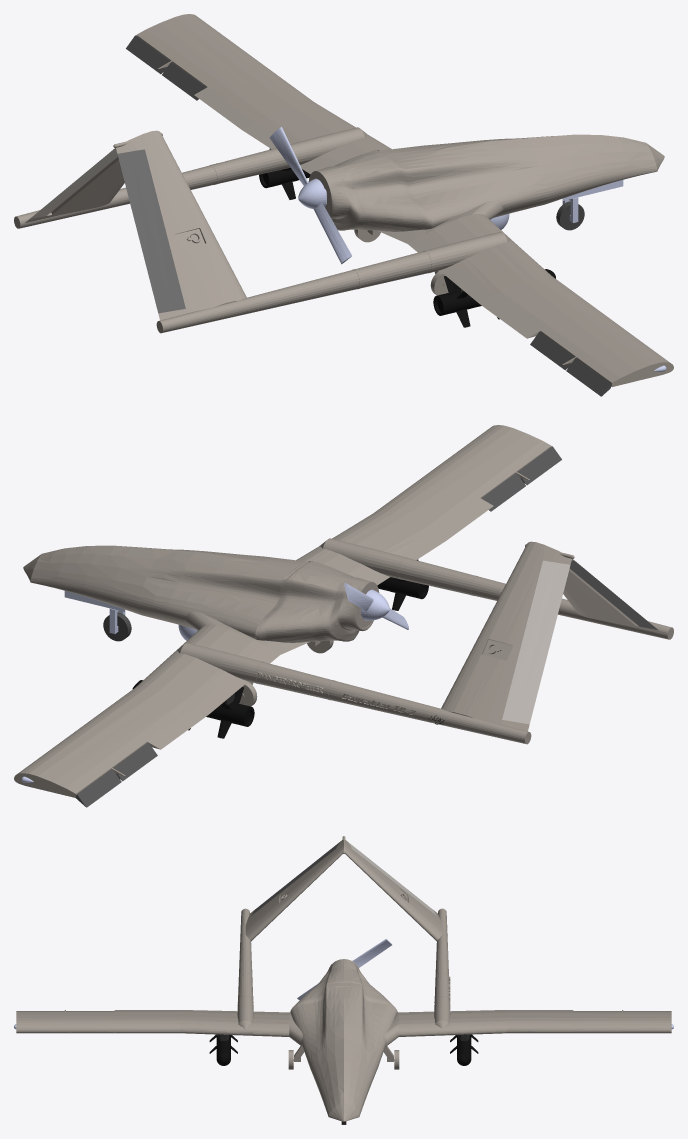
Rendered from bayraktar.dae.
3 renders of one model, top to bottom at view 1: azimuth 30°, elevation 25°; view 2: azimuth 150°, elevation 25°; view 3: azimuth 270°, elevation 25°, orthographic. The views are drawn at different scales.
Visible parts, largest first — view 1: node_21aa6f1b_4cc6_4674_8481_fa19cf884aa5_mesh0, node_a41c1e9a_2457_4441_9444_db0be0cb81cd_mesh0, node_a6cd0b73_88a4_4b96_8ce3_0f7a03fee2b4_mesh0, node_0177fd96_bb61_4c5b_904d_7a3a7aba0cf2_mesh0, node_ffc72f0f_3ece_4954_9fb0_a7a6938f4e84_mesh0, node_eb30b794_a96b_4908_b75c_83268867330d_mesh0, node_af0ebca9_2919_43ab_b37c_22525f186a75_mesh0, node_17796ee5_82b7_4d5f_a49e_66aaa332f797_mesh0, node_0dfdd885_90a9_4995_8bb1_0d7cf4f2f3eb_mesh0, node_28502402_f35b_4427_a673_96bd34d76259_mesh0, node_29ff8832_0dd7_435e_8a0f_74c3b750014e_mesh0, node_207bc2c0_5888_4765_a0cf_2837b3d0f436_mesh0; view 2: node_21aa6f1b_4cc6_4674_8481_fa19cf884aa5_mesh0, node_ffc72f0f_3ece_4954_9fb0_a7a6938f4e84_mesh0, node_a6cd0b73_88a4_4b96_8ce3_0f7a03fee2b4_mesh0, node_af0ebca9_2919_43ab_b37c_22525f186a75_mesh0, node_a41c1e9a_2457_4441_9444_db0be0cb81cd_mesh0, node_0177fd96_bb61_4c5b_904d_7a3a7aba0cf2_mesh0, node_0dfdd885_90a9_4995_8bb1_0d7cf4f2f3eb_mesh0, node_eb30b794_a96b_4908_b75c_83268867330d_mesh0, node_28502402_f35b_4427_a673_96bd34d76259_mesh0, node_17796ee5_82b7_4d5f_a49e_66aaa332f797_mesh0, node_207bc2c0_5888_4765_a0cf_2837b3d0f436_mesh0, node_29ff8832_0dd7_435e_8a0f_74c3b750014e_mesh0; view 3: node_21aa6f1b_4cc6_4674_8481_fa19cf884aa5_mesh0, node_0177fd96_bb61_4c5b_904d_7a3a7aba0cf2_mesh0, node_af0ebca9_2919_43ab_b37c_22525f186a75_mesh0, node_a6cd0b73_88a4_4b96_8ce3_0f7a03fee2b4_mesh0.
Part boxes in pixels (box(x1,y1,x2,y2)): node_21aa6f1b_4cc6_4674_8481_fa19cf884aa5_mesh0: box(14, 14, 673, 386); node_a41c1e9a_2457_4441_9444_db0be0cb81cd_mesh0: box(117, 149, 185, 313); node_a6cd0b73_88a4_4b96_8ce3_0f7a03fee2b4_mesh0: box(269, 127, 351, 264); node_0177fd96_bb61_4c5b_904d_7a3a7aba0cf2_mesh0: box(433, 269, 555, 327); node_ffc72f0f_3ece_4954_9fb0_a7a6938f4e84_mesh0: box(30, 149, 117, 218); node_eb30b794_a96b_4908_b75c_83268867330d_mesh0: box(566, 358, 611, 396); node_af0ebca9_2919_43ab_b37c_22525f186a75_mesh0: box(259, 148, 310, 199); node_17796ee5_82b7_4d5f_a49e_66aaa332f797_mesh0: box(530, 331, 574, 370); node_0dfdd885_90a9_4995_8bb1_0d7cf4f2f3eb_mesh0: box(126, 35, 170, 74); node_28502402_f35b_4427_a673_96bd34d76259_mesh0: box(162, 62, 206, 100); node_29ff8832_0dd7_435e_8a0f_74c3b750014e_mesh0: box(316, 127, 364, 153); node_207bc2c0_5888_4765_a0cf_2837b3d0f436_mesh0: box(459, 232, 507, 257); node_21aa6f1b_4cc6_4674_8481_fa19cf884aa5_mesh0: box(14, 425, 673, 797); node_ffc72f0f_3ece_4954_9fb0_a7a6938f4e84_mesh0: box(502, 560, 570, 724); node_a6cd0b73_88a4_4b96_8ce3_0f7a03fee2b4_mesh0: box(344, 583, 408, 629); node_af0ebca9_2919_43ab_b37c_22525f186a75_mesh0: box(132, 680, 254, 738); node_a41c1e9a_2457_4441_9444_db0be0cb81cd_mesh0: box(569, 560, 657, 629); node_0177fd96_bb61_4c5b_904d_7a3a7aba0cf2_mesh0: box(377, 559, 428, 610); node_0dfdd885_90a9_4995_8bb1_0d7cf4f2f3eb_mesh0: box(76, 769, 121, 807); node_eb30b794_a96b_4908_b75c_83268867330d_mesh0: box(517, 446, 561, 485); node_28502402_f35b_4427_a673_96bd34d76259_mesh0: box(113, 742, 157, 781); node_17796ee5_82b7_4d5f_a49e_66aaa332f797_mesh0: box(481, 473, 525, 511); node_207bc2c0_5888_4765_a0cf_2837b3d0f436_mesh0: box(323, 538, 371, 564); node_29ff8832_0dd7_435e_8a0f_74c3b750014e_mesh0: box(180, 643, 228, 668); node_21aa6f1b_4cc6_4674_8481_fa19cf884aa5_mesh0: box(16, 836, 671, 1121); node_0177fd96_bb61_4c5b_904d_7a3a7aba0cf2_mesh0: box(209, 1034, 237, 1065); node_af0ebca9_2919_43ab_b37c_22525f186a75_mesh0: box(450, 1034, 478, 1065); node_a6cd0b73_88a4_4b96_8ce3_0f7a03fee2b4_mesh0: box(297, 939, 391, 1000).
Size of the model in its own units: 0.4194 by 0.139 by 0.604.
